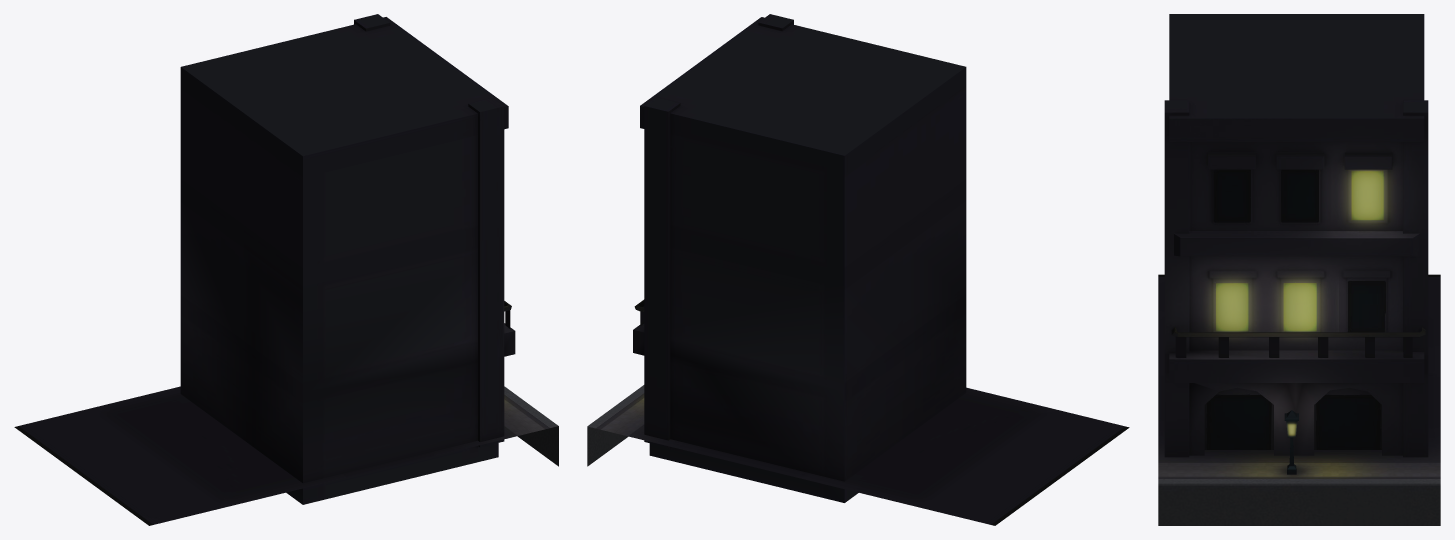
3 renders of one model, left to right at view 1: azimuth 30°, elevation 25°; view 2: azimuth 150°, elevation 25°; view 3: azimuth 270°, elevation 25°, orthographic. The views are drawn at different scales.
Visible parts, largest first — view 1: modelB001; view 2: modelB001; view 3: modelB001.
Boxes of the visible parts, x1,y1,x2,y2 form: modelB001: (14, 14, 558, 525); modelB001: (587, 14, 1129, 525); modelB001: (1158, 14, 1440, 525).
Size of the model in its own units: 276 by 238 by 157.
1 material, 1 textured.
